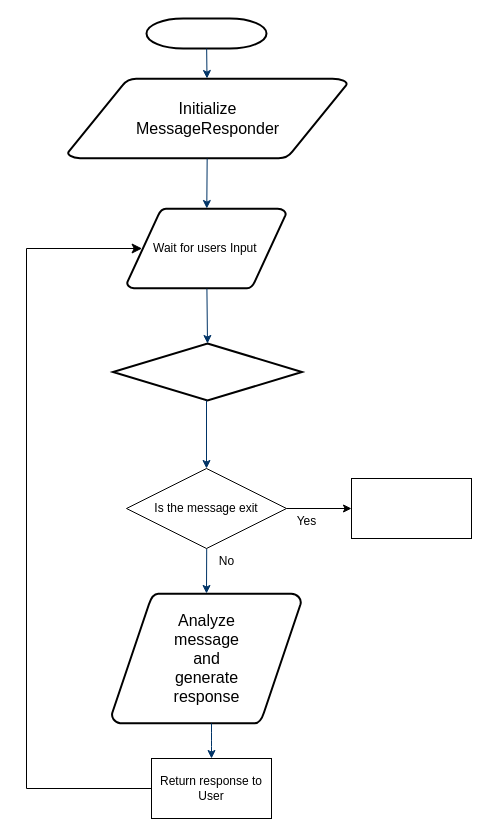
This 489x836 diagram has some shape labels left out. The centre of each missing label's shape, as x and y in pixels:
"End Programm" belongs at (x=411, y=508).
"start" belongs at (x=206, y=33).
"User enters a message" belongs at (x=207, y=371).
